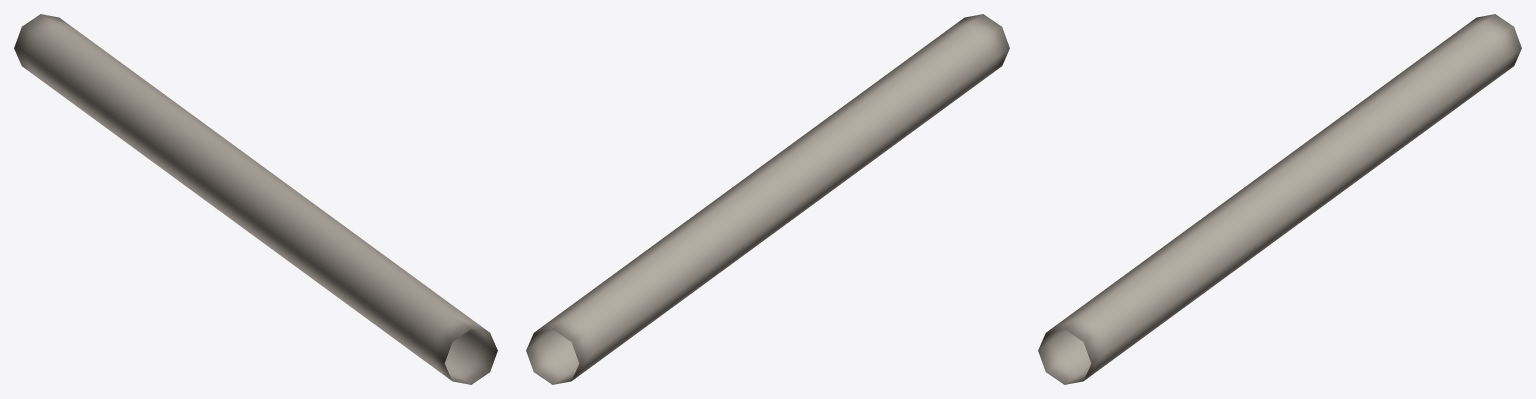
The model's file is Alniyat_Antenna_2_1_1_Arm.obj.
3 renders of one model, left to right at view 1: azimuth 30°, elevation 25°; view 2: azimuth 150°, elevation 25°; view 3: azimuth 330°, elevation 25°, orthographic.
Parts seen in each view (by area): view 1: Alniyat_Antenna_2_1_1_Arm; view 2: Alniyat_Antenna_2_1_1_Arm; view 3: Alniyat_Antenna_2_1_1_Arm.
Part boxes in pixels (<box>): Alniyat_Antenna_2_1_1_Arm: <box>14,14,497,384</box>; Alniyat_Antenna_2_1_1_Arm: <box>526,14,1009,384</box>; Alniyat_Antenna_2_1_1_Arm: <box>1038,14,1521,384</box>.
Bounding box in the file's own units: 0.025 × 0.025 × 0.35.
